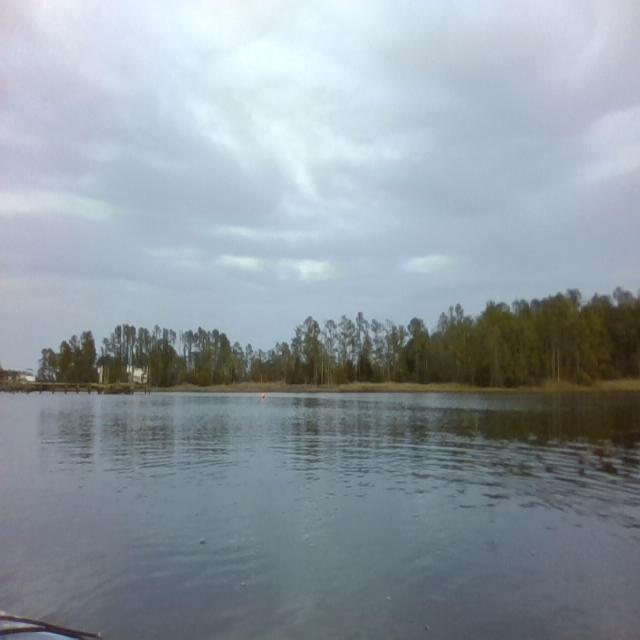Buoy: (260, 391, 266, 400)
